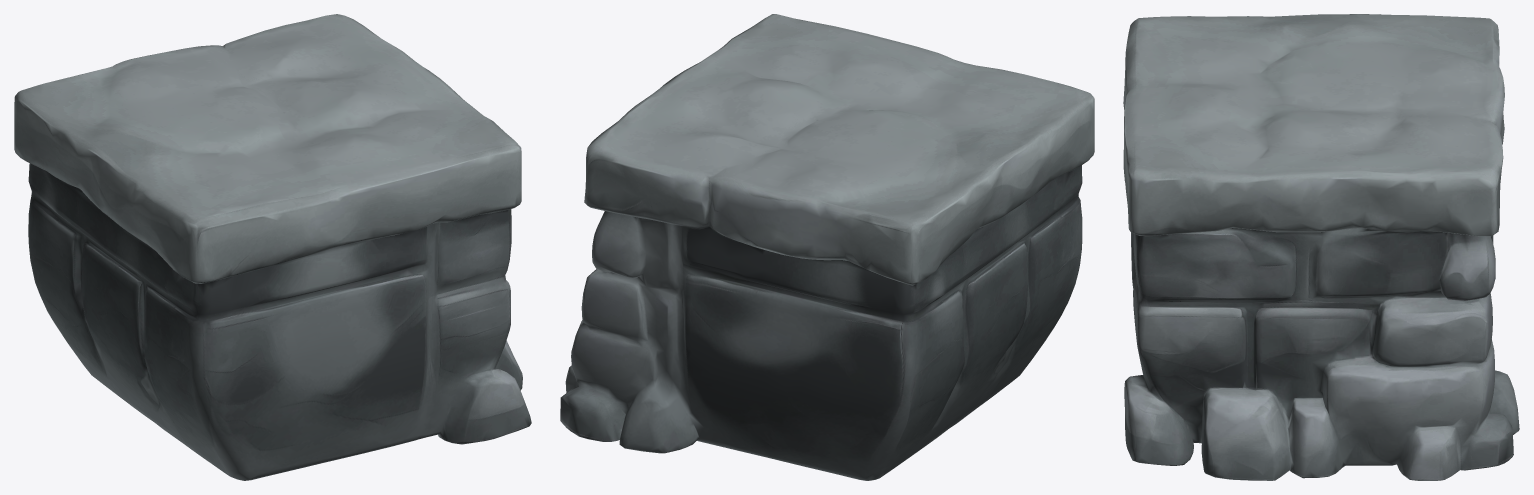
File: cliff_rock_a.glb
3 renders of one model, left to right at view 1: azimuth 30°, elevation 25°; view 2: azimuth 150°, elevation 25°; view 3: azimuth 270°, elevation 25°, orthographic.
Visible parts, largest first — view 1: tripo_node_2b2f104c-f8ab-48eb-9ef0-e4f2a17569d6; view 2: tripo_node_2b2f104c-f8ab-48eb-9ef0-e4f2a17569d6; view 3: tripo_node_2b2f104c-f8ab-48eb-9ef0-e4f2a17569d6.
Boxes of the visible parts, x1=… form: tripo_node_2b2f104c-f8ab-48eb-9ef0-e4f2a17569d6: x1=14, y1=14, x2=531, y2=480; tripo_node_2b2f104c-f8ab-48eb-9ef0-e4f2a17569d6: x1=560, y1=14, x2=1094, y2=480; tripo_node_2b2f104c-f8ab-48eb-9ef0-e4f2a17569d6: x1=1123, y1=14, x2=1519, y2=480.
Bounding box in the file's own units: 1 × 0.74 × 0.9045.
1 material, 1 textured.
